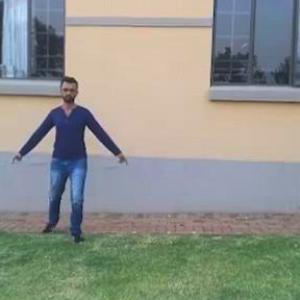land: (18, 79, 118, 230)
